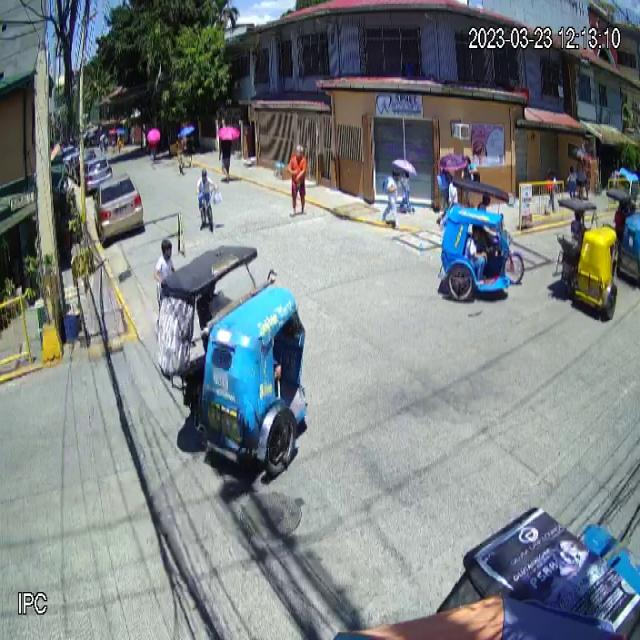Car: (92, 171, 143, 247)
Tricycle: (156, 246, 308, 479), (438, 176, 524, 302), (555, 194, 618, 317)
